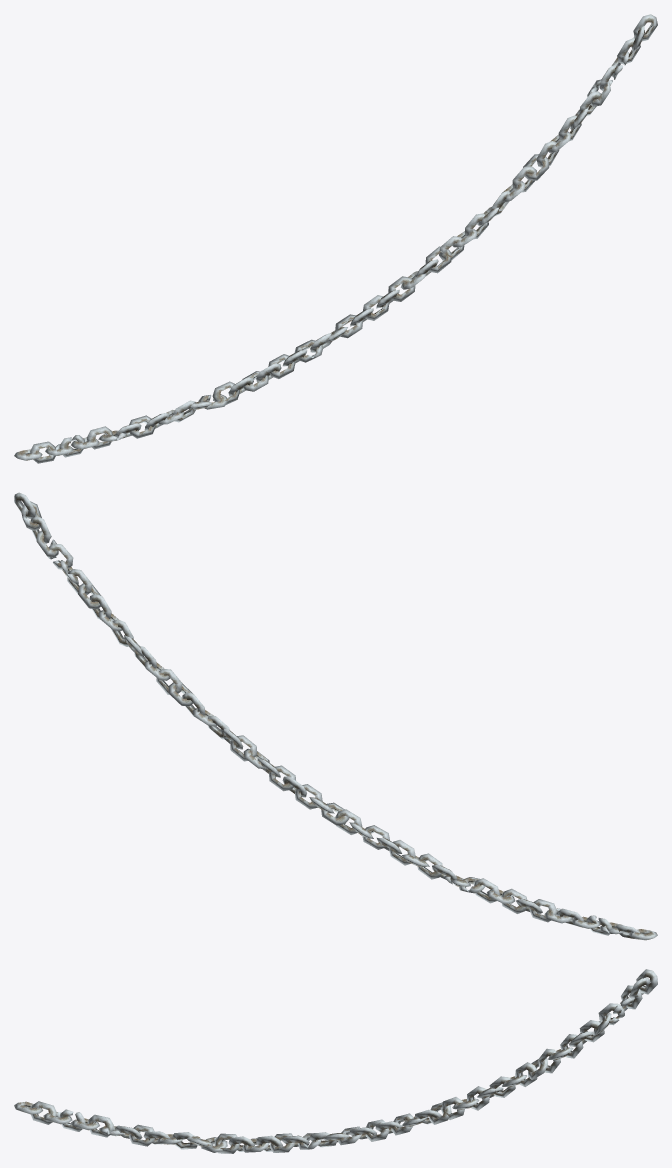
Rendered from S_Build_Snowland234.FBX.
3 views of the same model, one above another, from view 1: azimuth 30°, elevation 25°; view 2: azimuth 150°, elevation 25°; view 3: azimuth 330°, elevation 25° (orthographic).
Visible parts, largest first — view 1: S_Build_Snowland234; view 2: S_Build_Snowland234; view 3: S_Build_Snowland234.
Part boxes in pixels (bbox=[...]): S_Build_Snowland234: bbox=[14, 14, 657, 463]; S_Build_Snowland234: bbox=[14, 492, 657, 940]; S_Build_Snowland234: bbox=[14, 969, 657, 1153].
Bounding box in the file's own units: 4719 × 154 × 2107.
